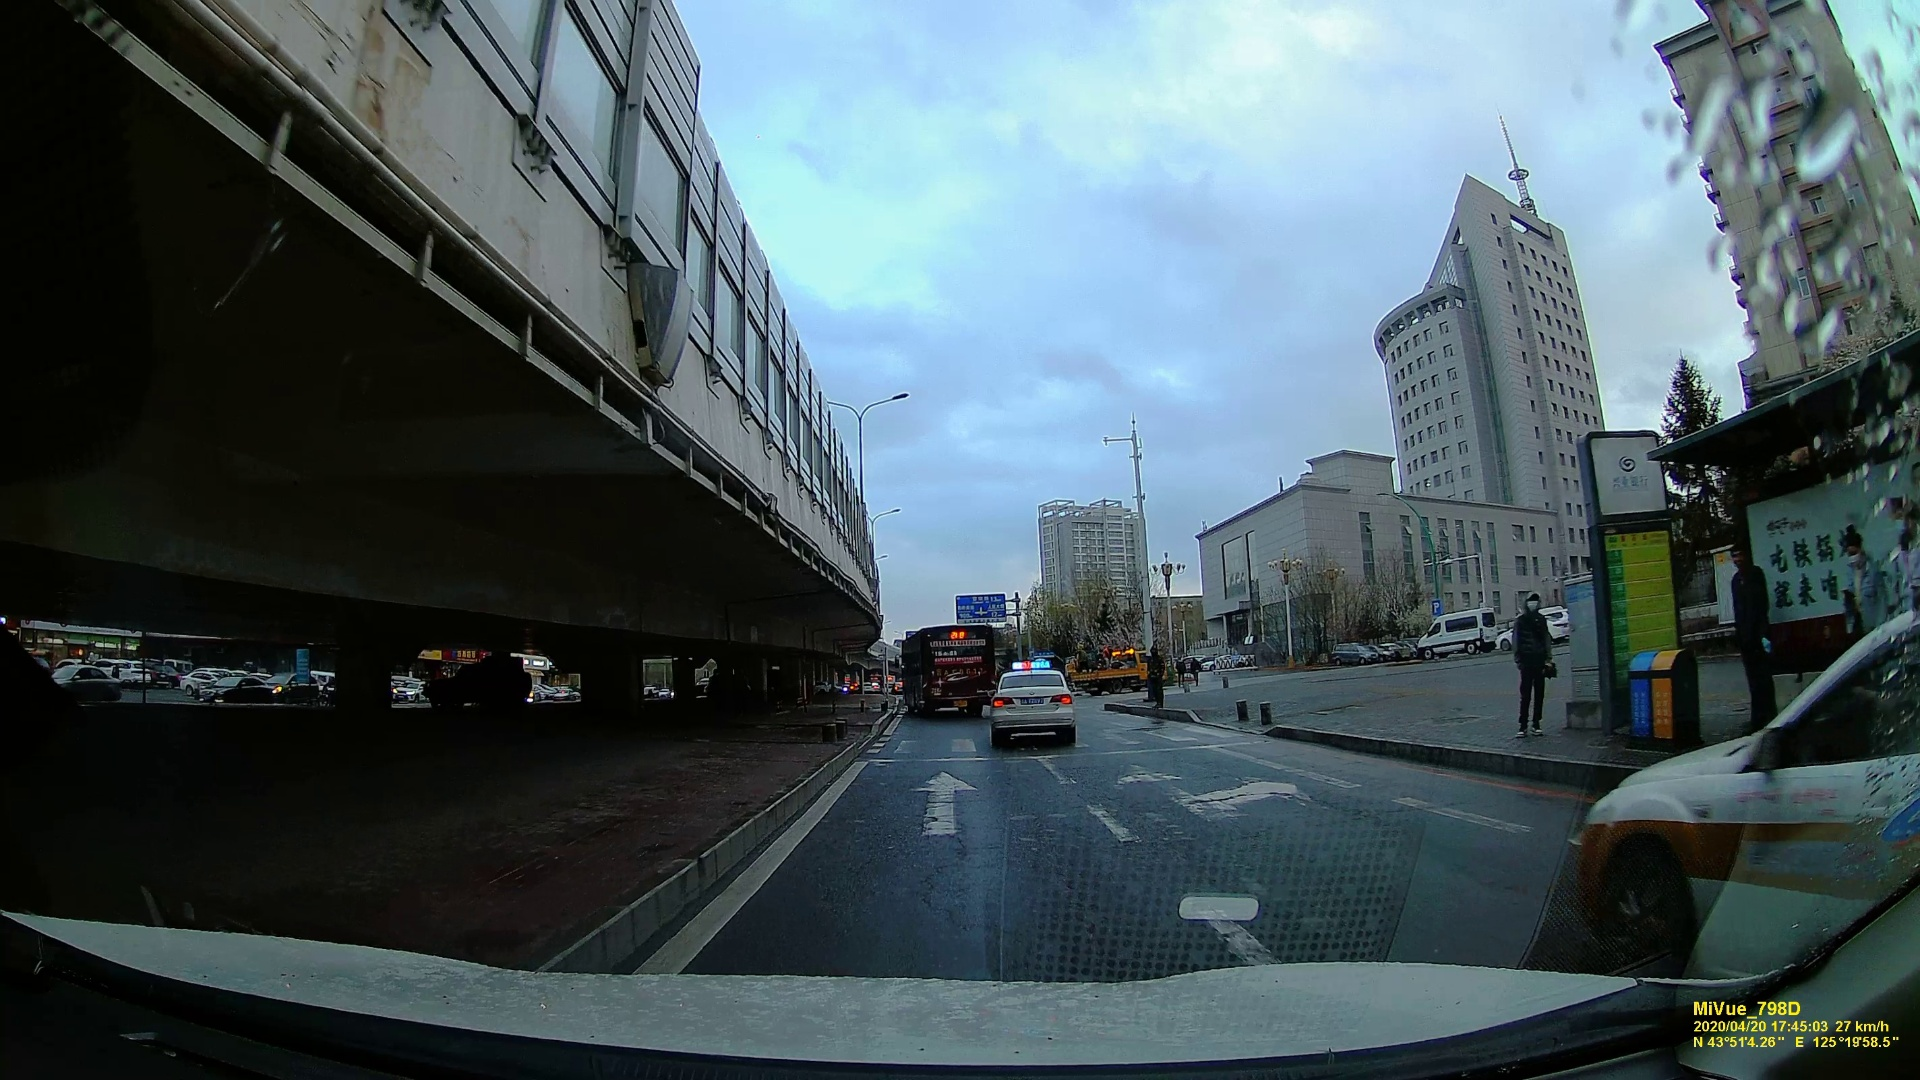bus: (897, 626, 985, 720)
minibus: (1422, 610, 1504, 657)
person: (1717, 536, 1795, 740), (1500, 600, 1560, 742), (1832, 528, 1888, 662)
traffic_sign: (957, 593, 1003, 624)
truck: (1070, 648, 1165, 692)
vehicle: (985, 666, 1081, 745), (49, 658, 131, 700)
